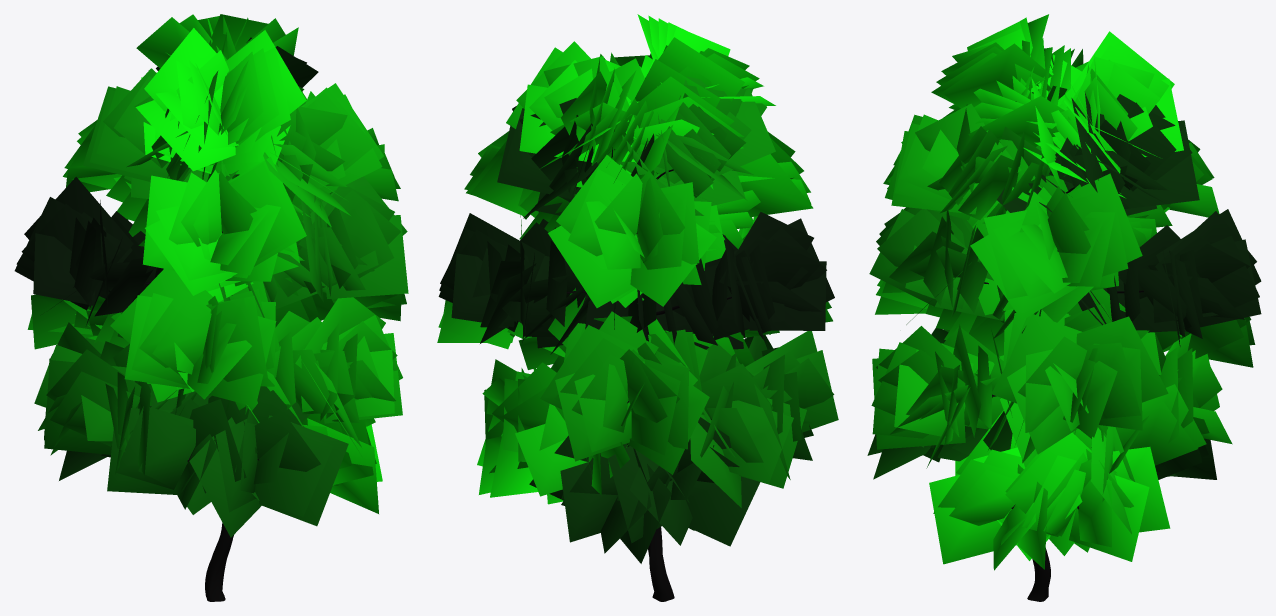
The model's file is Maple_4.fbx.
3 views of the same model, side by side, from view 1: azimuth 30°, elevation 25°; view 2: azimuth 150°, elevation 25°; view 3: azimuth 270°, elevation 25° (orthographic).
Visible parts, largest first — view 1: Maple_4; view 2: Maple_4; view 3: Maple_4.
Boxes of the visible parts, x1=… form: Maple_4: x1=14, y1=14, x2=408, y2=601; Maple_4: x1=437, y1=14, x2=838, y2=601; Maple_4: x1=867, y1=14, x2=1261, y2=601.
Size of the model in its own units: 351 by 521 by 323.
